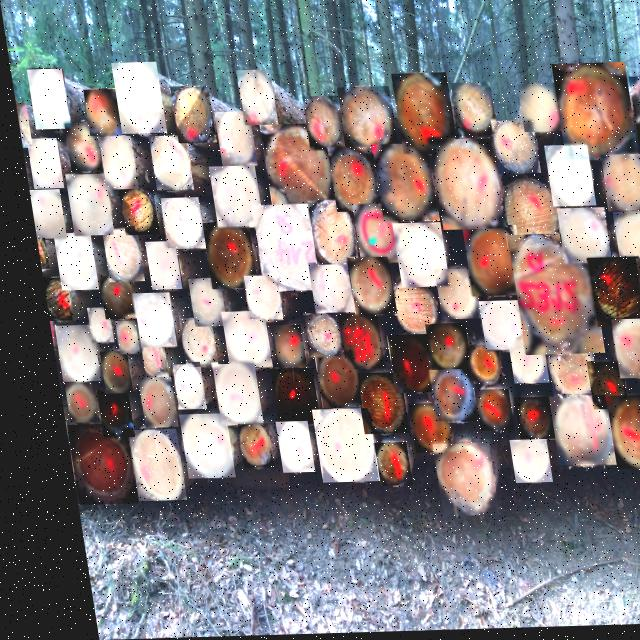wood-log: (505, 240, 586, 357), (554, 67, 629, 164), (430, 142, 497, 232), (261, 125, 327, 213), (249, 207, 312, 291), (59, 425, 119, 504), (394, 76, 450, 156), (372, 147, 429, 223), (304, 410, 361, 484), (421, 446, 479, 518), (495, 182, 554, 251), (541, 400, 599, 467), (458, 231, 514, 299), (581, 261, 636, 330), (337, 89, 390, 156), (117, 430, 167, 501), (168, 415, 218, 478), (199, 223, 246, 290), (597, 399, 640, 472), (388, 225, 437, 289), (114, 64, 159, 133), (325, 150, 372, 213), (346, 375, 393, 436), (208, 168, 253, 227), (305, 203, 347, 266), (204, 365, 248, 425), (543, 150, 587, 210), (553, 211, 601, 266), (348, 206, 392, 265), (380, 337, 424, 395), (63, 175, 104, 236), (538, 347, 584, 401), (214, 313, 259, 368), (341, 260, 384, 316), (262, 370, 304, 425), (598, 158, 640, 213), (306, 354, 347, 410), (489, 124, 533, 176), (332, 316, 372, 371), (48, 326, 87, 382), (603, 322, 640, 381), (420, 372, 462, 423), (171, 88, 209, 144), (28, 69, 64, 128), (50, 233, 87, 290), (451, 86, 491, 138), (147, 137, 186, 190), (428, 272, 468, 322), (471, 304, 512, 352), (157, 199, 196, 249), (127, 294, 163, 348), (237, 71, 272, 126), (300, 99, 337, 151), (302, 266, 342, 314), (214, 113, 250, 166), (97, 230, 133, 282), (397, 406, 436, 454), (518, 87, 556, 135), (417, 327, 457, 372), (128, 378, 163, 428), (97, 137, 130, 190), (608, 215, 640, 269), (264, 423, 298, 473), (180, 279, 215, 327), (62, 124, 96, 172), (171, 319, 205, 367), (497, 443, 534, 486), (25, 190, 58, 238), (24, 138, 55, 189), (579, 366, 613, 412), (83, 90, 116, 136), (296, 315, 331, 358), (500, 341, 534, 385), (116, 190, 149, 235), (93, 276, 127, 319), (238, 277, 272, 320), (361, 444, 394, 488), (503, 401, 538, 442), (140, 243, 171, 289), (88, 390, 118, 437), (464, 392, 497, 433), (163, 365, 192, 410), (226, 426, 257, 468), (264, 327, 293, 369), (53, 382, 82, 423), (91, 352, 119, 394), (458, 349, 489, 386), (36, 278, 62, 321), (131, 344, 155, 378), (79, 308, 102, 343), (106, 321, 127, 354), (15, 104, 27, 146), (631, 91, 640, 144), (628, 376, 640, 412), (29, 237, 40, 268)
